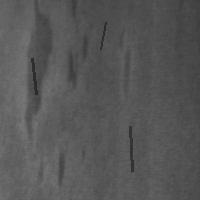inclusion: (21, 1, 55, 143), (62, 1, 91, 90), (34, 146, 86, 189), (116, 26, 133, 101), (30, 56, 38, 96), (128, 124, 134, 173), (98, 20, 107, 51)
